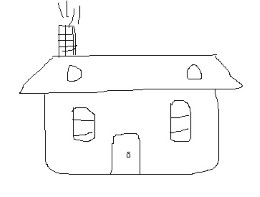closed_window: (166, 96, 196, 150), (67, 100, 99, 148)
door: (106, 129, 150, 181)
roof: (14, 50, 249, 97)
smoking_chimney: (53, 0, 85, 62)
wall: (36, 85, 220, 179)
